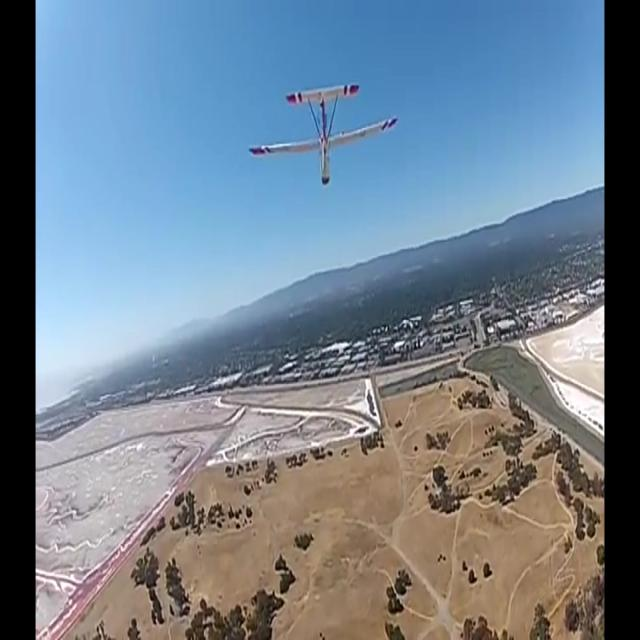iha: (248, 107, 399, 149)
